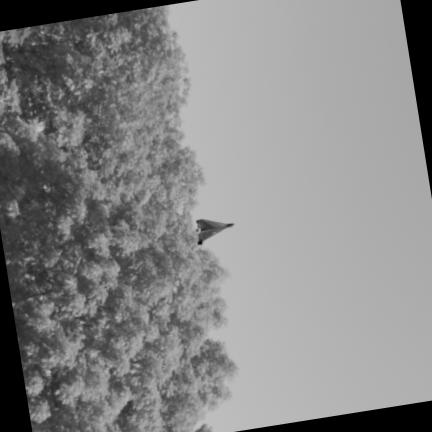Shahed: (195, 220, 234, 244)
